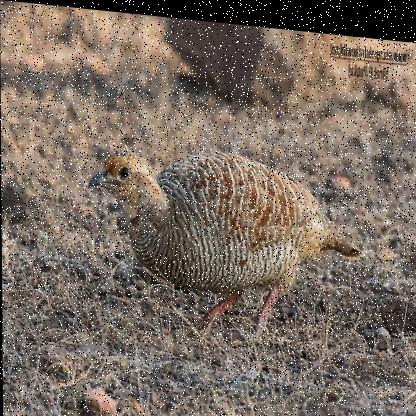Burung: (88, 136, 366, 344)
